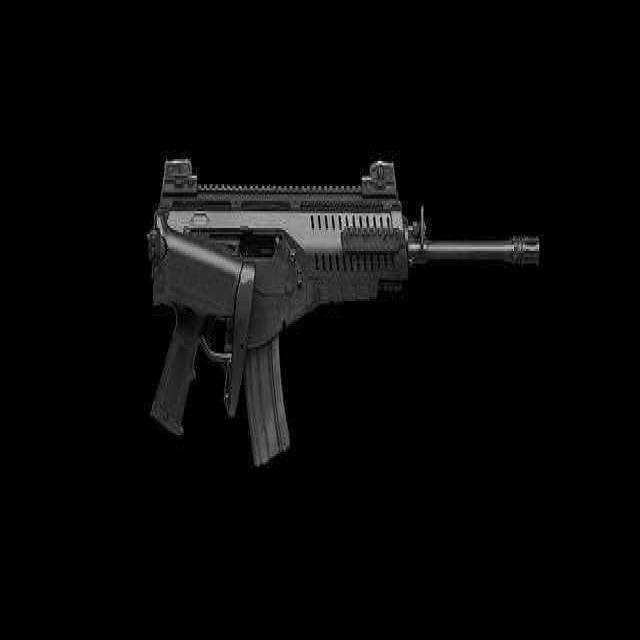heavyweapon: (122, 72, 557, 511)
